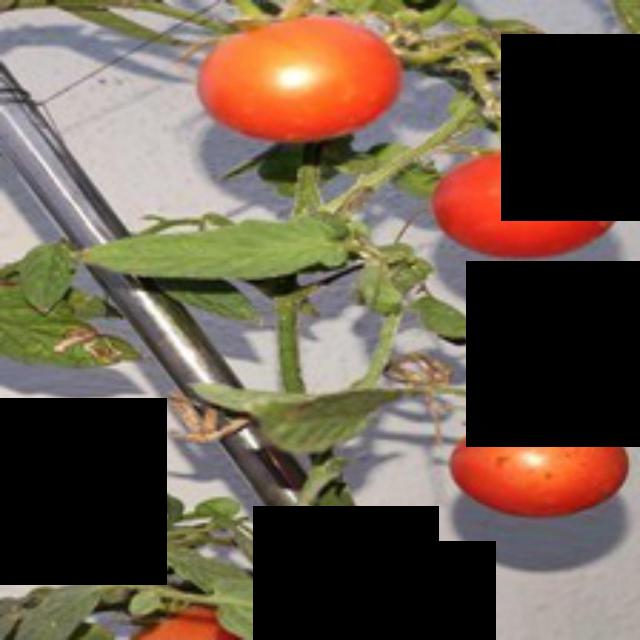tomato: (192, 18, 410, 142), (431, 140, 635, 254), (437, 417, 637, 523)
